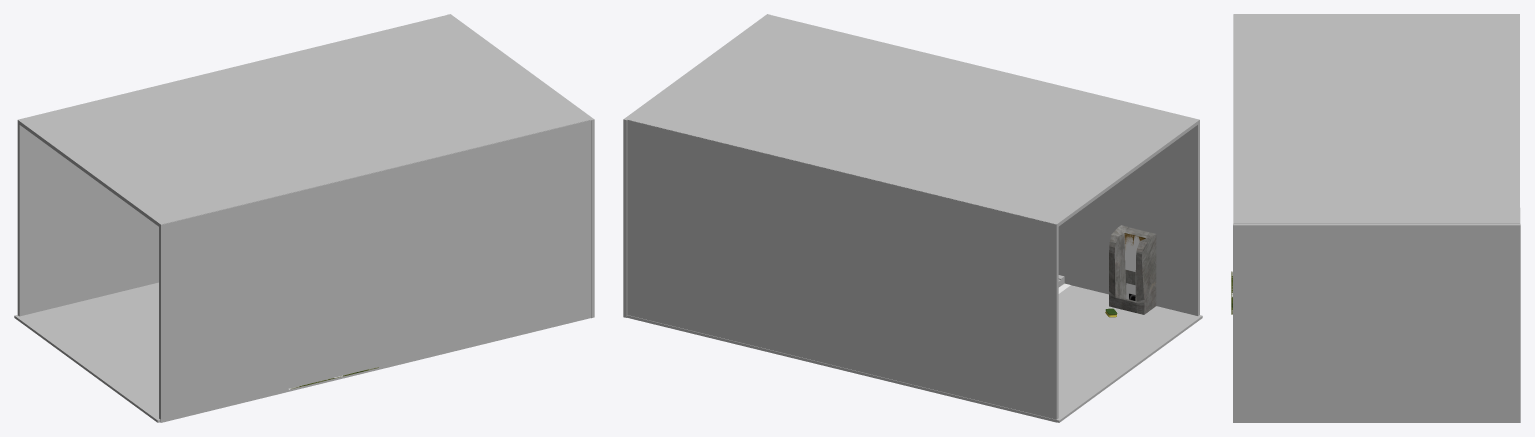
File: Shower_named.fbx
The picture shows the model from 3 angles, left to right: view 1: azimuth 30°, elevation 25°; view 2: azimuth 150°, elevation 25°; view 3: azimuth 270°, elevation 25°; orthographic projection.
Visible parts, largest first — view 1: shower_wall_1, upper_shower__wall, shower_wall, lower_shower_wall, shower_wall_2; view 2: shower_wall, upper_shower__wall, shower_wall_1, lower_shower_wall, pissoir, shower_wall_2; view 3: upper_shower__wall, shower_wall_2.
Part boxes in pixels (<box>): shower_wall_1: <box>159,120,590,422</box>; upper_shower__wall: <box>17,15,590,227</box>; shower_wall: <box>17,121,158,316</box>; lower_shower_wall: <box>14,282,160,422</box>; shower_wall_2: <box>447,14,594,318</box>; shower_wall: <box>627,120,1058,422</box>; upper_shower__wall: <box>627,15,1199,227</box>; shower_wall_1: <box>1058,123,1199,315</box>; lower_shower_wall: <box>627,285,1202,422</box>; pissoir: <box>1109,225,1156,314</box>; shower_wall_2: <box>623,14,770,317</box>; upper_shower__wall: <box>1233,14,1519,223</box>; shower_wall_2: <box>1233,223,1520,422</box>.
Bounding box in the file's own units: 700 × 304 × 403.
